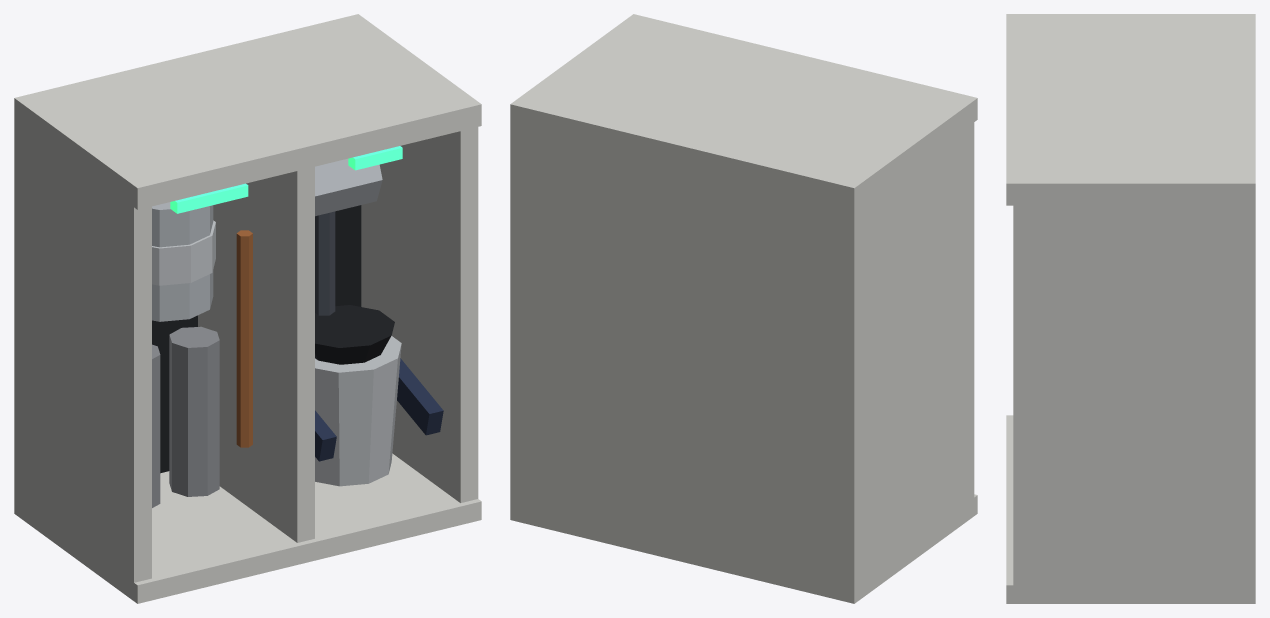
Rendered from cabin-eclss-wrs.glb.
The picture shows the model from 3 angles, left to right: view 1: azimuth 30°, elevation 25°; view 2: azimuth 150°, elevation 25°; view 3: azimuth 270°, elevation 25°; orthographic projection.
Visible parts, largest first — view 1: CabinEclssWrs_Hull, CabinEclssWrs_Titanium, CabinEclssWrs_Aluminum, CabinEclssWrs_HullBlack, CabinEclssWrs_Steel, CabinEclssWrs_Copper, CabinEclssWrs_Pack, CabinEclssWrs_FoilSilver, CabinEclssWrs_Strap, CabinEclssWrs_LedGreen; view 2: CabinEclssWrs_Hull; view 3: CabinEclssWrs_Hull.
Boxes of the visible parts, left/top/right/bottom form: CabinEclssWrs_Hull: left=14, top=14, right=481, bottom=603; CabinEclssWrs_Titanium: left=152, top=326, right=219, bottom=507; CabinEclssWrs_Aluminum: left=315, top=336, right=401, bottom=486; CabinEclssWrs_HullBlack: left=152, top=205, right=394, bottom=473; CabinEclssWrs_Steel: left=152, top=158, right=382, bottom=321; CabinEclssWrs_Copper: left=236, top=230, right=252, bottom=447; CabinEclssWrs_Pack: left=315, top=358, right=443, bottom=461; CabinEclssWrs_FoilSilver: left=152, top=220, right=215, bottom=285; CabinEclssWrs_Strap: left=315, top=211, right=335, bottom=315; CabinEclssWrs_LedGreen: left=170, top=146, right=402, bottom=213; CabinEclssWrs_Hull: left=510, top=14, right=977, bottom=603; CabinEclssWrs_Hull: left=1006, top=14, right=1255, bottom=603.
Bounding box in the file's own units: 0.58 × 0.6695 × 0.36.
